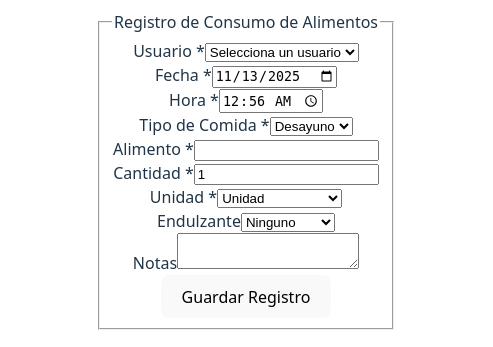
Test case: RegistrationForm - Validation › shows validation error when userId is missing
// Limpiar el userId
Select "Selecciona un usuario" in the dropdown labelled "Usuario *" at (282,53), box [205, 43, 359, 62]
Click the button "Guardar Registro".
click(246, 297)  # box [161, 275, 330, 318]
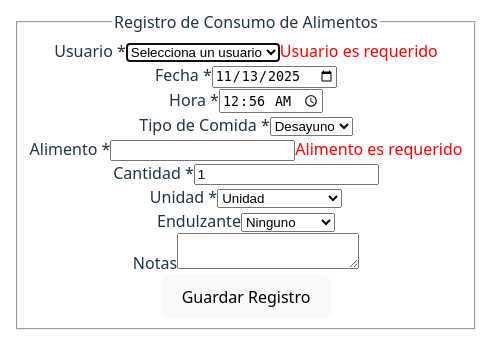
Expected: the text "Usuario es requerido" is shown, [280, 40, 438, 62]
